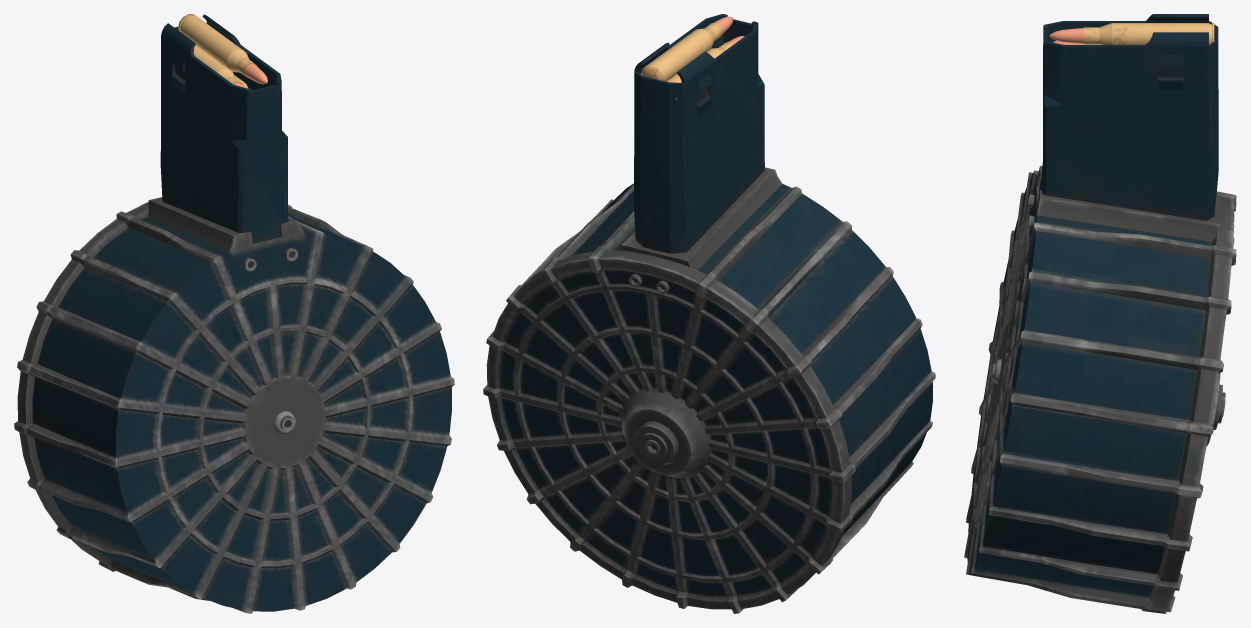
File: Mag_762_100rnds_A.glb
3 views of the same model, side by side, from view 1: azimuth 30°, elevation 25°; view 2: azimuth 150°, elevation 25°; view 3: azimuth 270°, elevation 25° (orthographic). The views are drawn at different scales.
Visible parts, largest first — view 1: Mag_762_100rnds_A, Cartridge1.017; view 2: Mag_762_100rnds_A, Cartridge1.017; view 3: Mag_762_100rnds_A, Cartridge1.017.
Part boxes in pixels (box(x1,y1,x2,y2)): Mag_762_100rnds_A: box(14, 14, 454, 613); Cartridge1.017: box(178, 14, 267, 84); Mag_762_100rnds_A: box(483, 14, 935, 613); Cartridge1.017: box(640, 16, 733, 81); Mag_762_100rnds_A: box(964, 14, 1236, 613); Cartridge1.017: box(1049, 23, 1214, 44).
Size of the model in its own units: 0.1974 by 0.2914 by 0.1253.
Materials: 2 (2 with a texture image).
